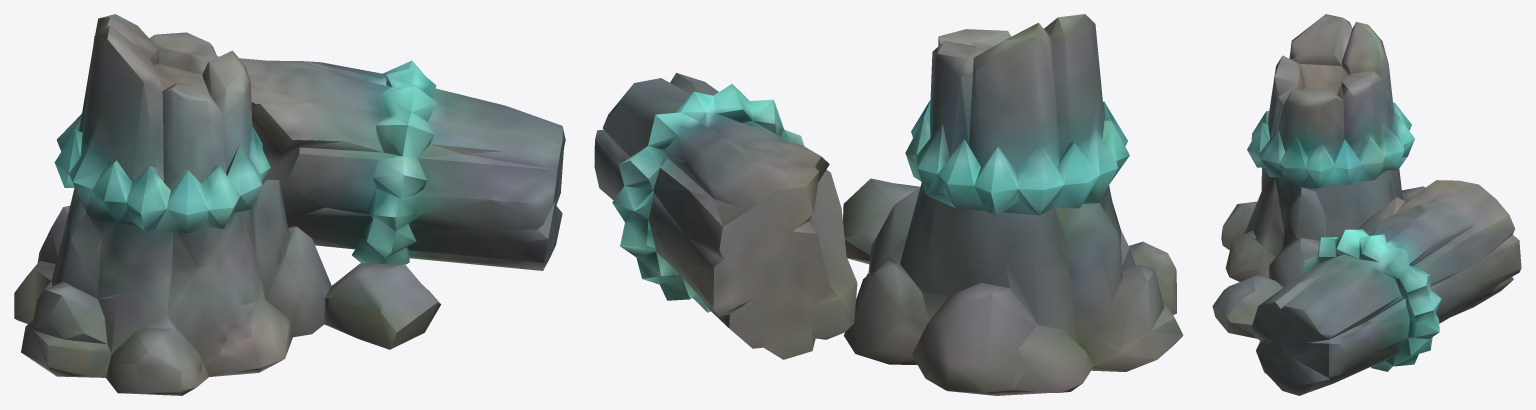
Rendered from estalagmita_rota.glb.
3 renders of one model, left to right at view 1: azimuth 30°, elevation 25°; view 2: azimuth 150°, elevation 25°; view 3: azimuth 270°, elevation 25°, orthographic. The views are drawn at different scales.
Parts seen in each view (by area): view 1: estalagmita_rota_malla; view 2: estalagmita_rota_malla; view 3: estalagmita_rota_malla.
Boxes of the visible parts, x1=… form: estalagmita_rota_malla: x1=14, y1=14, x2=565, y2=395; estalagmita_rota_malla: x1=594, y1=14, x2=1183, y2=395; estalagmita_rota_malla: x1=1212, y1=14, x2=1521, y2=395.
Size of the model in its own units: 0.1842 by 0.1085 by 0.1239.
1 material, 1 textured.
